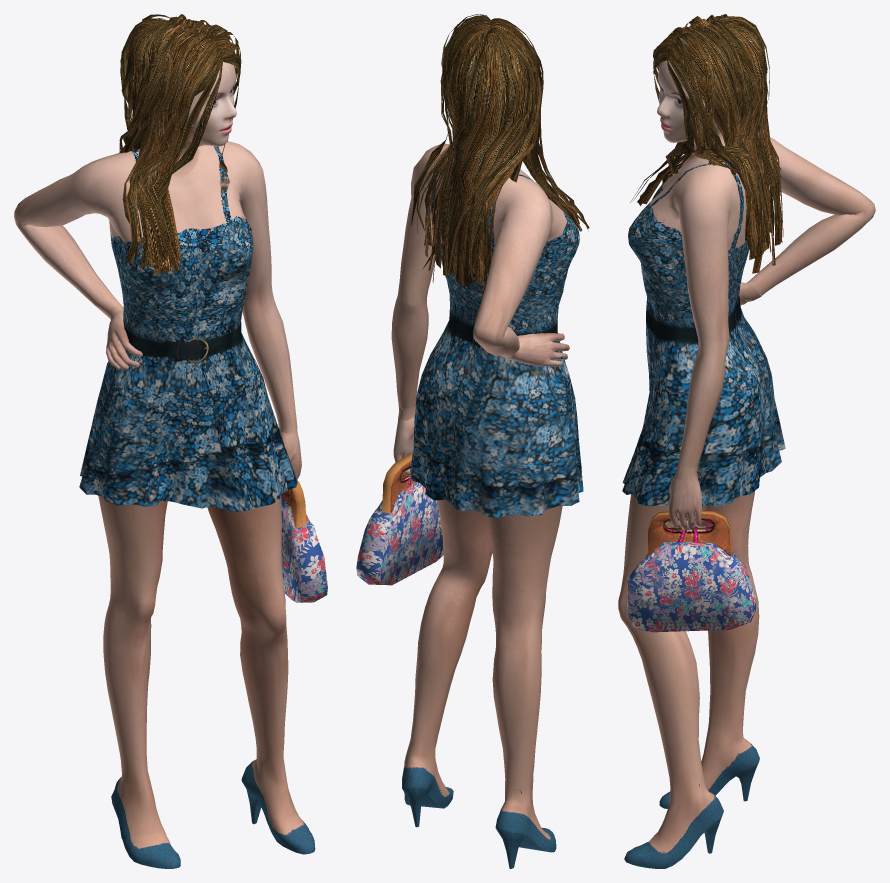
3 views of the same model, side by side, from view 1: azimuth 30°, elevation 25°; view 2: azimuth 150°, elevation 25°; view 3: azimuth 270°, elevation 25° (orthographic). The views are drawn at different scales.
Visible parts, largest first — view 1: mUA_Female12_5; view 2: mUA_Female12_5; view 3: mUA_Female12_5.
Boxes of the visible parts, x1,y1,x2,y2 form: mUA_Female12_5: [14, 14, 327, 868]; mUA_Female12_5: [356, 14, 589, 868]; mUA_Female12_5: [618, 14, 875, 868].
Size of the model in its own units: 46.06 by 177 by 51.56.
4 materials, 4 textured.
